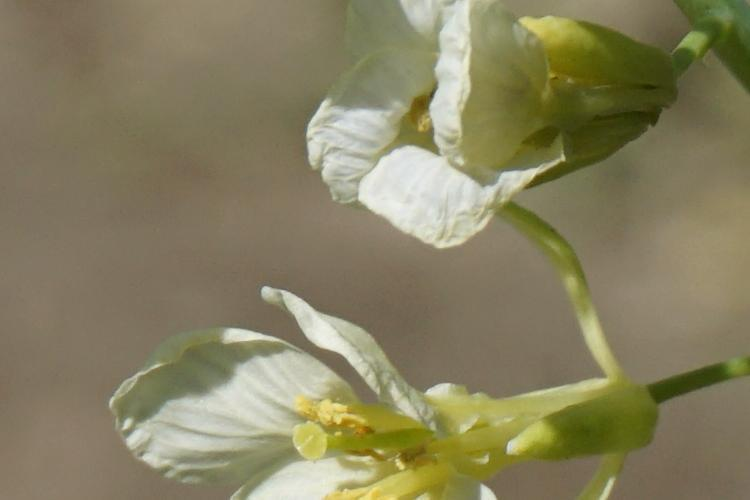white: (99, 279, 698, 500), (271, 7, 691, 257)
